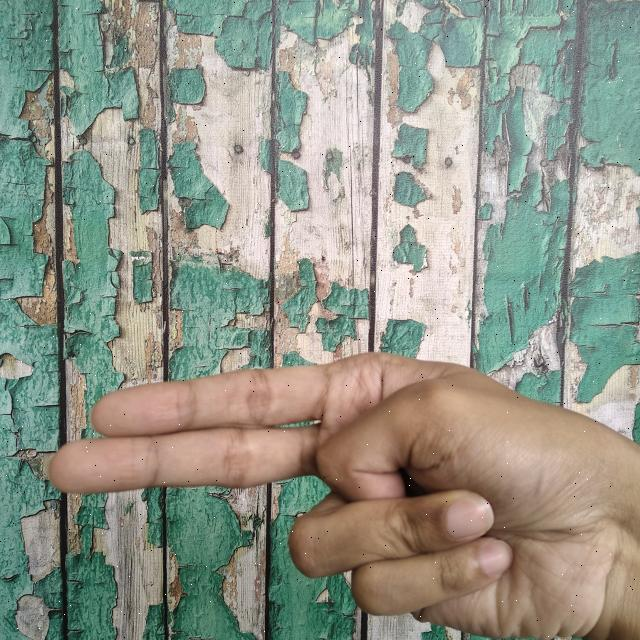H: (34, 342, 640, 640)
